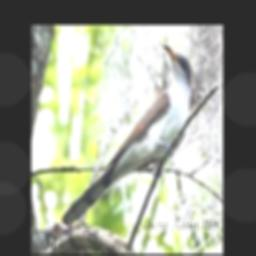Cuckoo: (61, 45, 192, 226)
